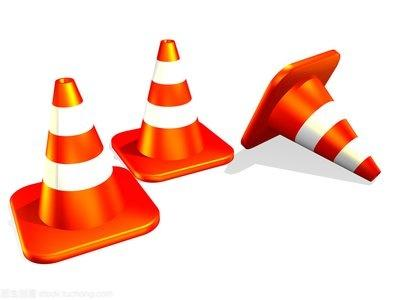cone_barrel: (239, 46, 382, 183), (32, 73, 123, 227), (128, 37, 214, 165)
